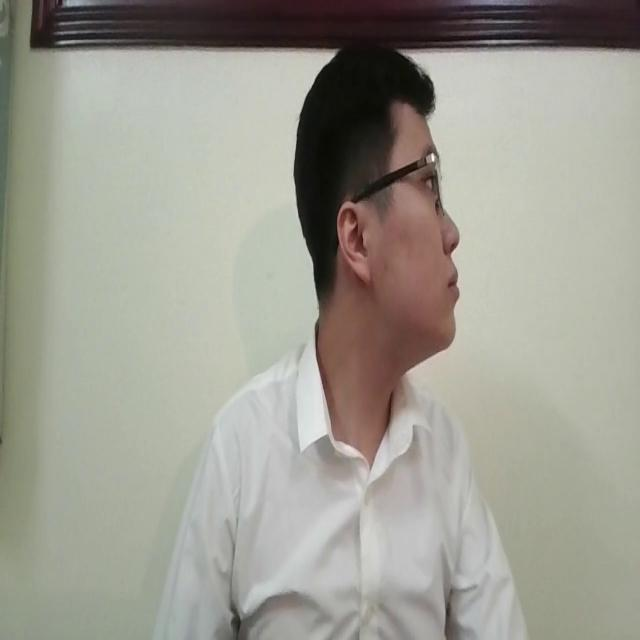student: (144, 28, 527, 640)
